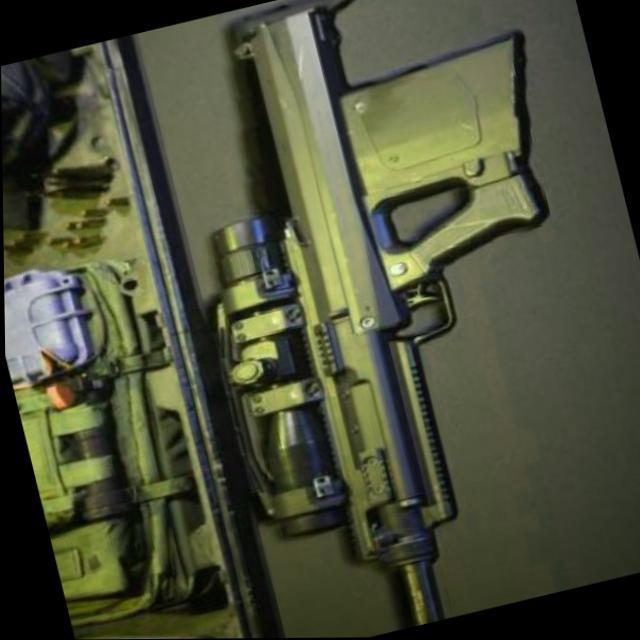weapon: (133, 0, 640, 639)
